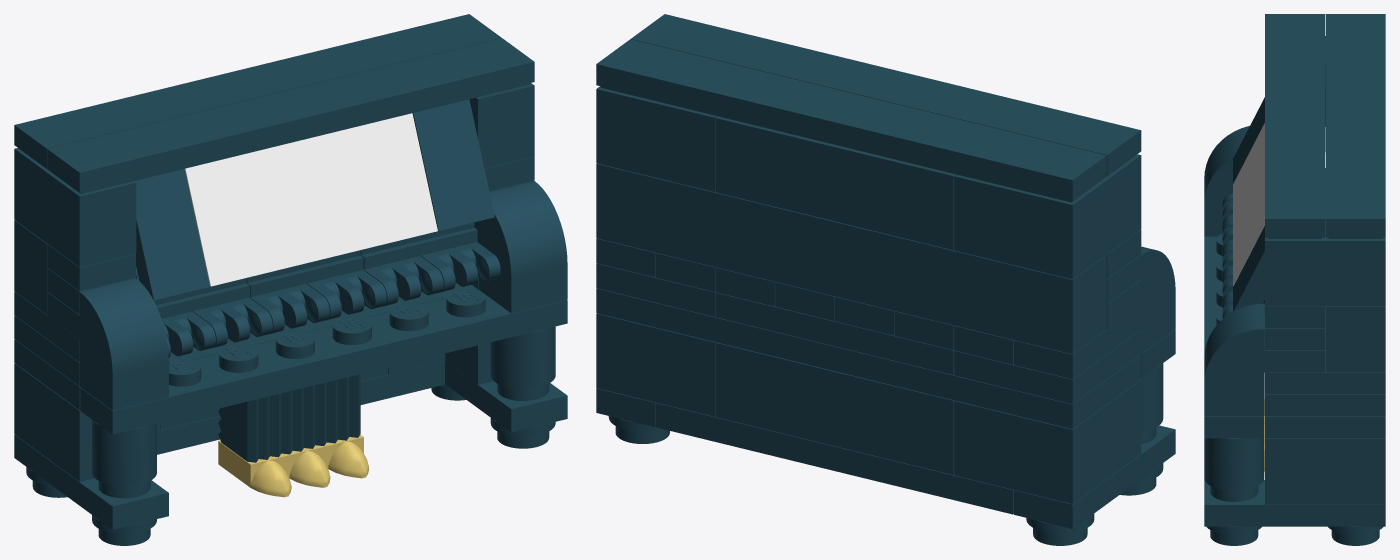
File: buffet-piano-no-keys.glb
The picture shows the model from 3 angles, left to right: view 1: azimuth 30°, elevation 25°; view 2: azimuth 150°, elevation 25°; view 3: azimuth 270°, elevation 25°; orthographic projection. The views are drawn at different scales.
Visible parts, largest first — view 1: Part-m6999143c__2020517__110155_dot_dat, Part-4162_dot_dat_instance_1, Part-3460_dot_dat, Part-4162_dot_dat_instance_0, Part-6091_dot_dat_instance_0, Part-2357_dot_dat_instance_0, Part-6091_dot_dat_instance_1, Part-2877_dot_dat, Part-3069b_dot_dat_1, Part-3069b_dot_dat_2, Part-2357_dot_dat_instance_3, Part-15208_dot_dat (+26 smaller); view 2: Part-3008_dot_dat, Part-4162_dot_dat_instance_0, Part-3010_dot_dat_instance_0, Part-3010_dot_dat_instance_1, Part-4162_dot_dat_instance_1, Part-2357_dot_dat_instance_0, Part-2357_dot_dat_instance_3, Part-3034_dot_dat, Part-2357_dot_dat_instance_1, Part-3666_dot_dat, Part-2357_dot_dat_instance_2, Part-3710_dot_dat (+19 smaller); view 3: Part-4162_dot_dat_instance_0, Part-4162_dot_dat_instance_1, Part-2357_dot_dat_instance_1, Part-2357_dot_dat_instance_2, Part-6091_dot_dat_instance_1, Part-3623_dot_dat_instance_0, Part-3008_dot_dat, Part-3062b_dot_dat_instance_0, Part-m6999143c__2020517__110155_dot_dat, Part-3460_dot_dat, Part-3023_dot_dat_instance_1, Part-3034_dot_dat (+12 smaller).
Boxes of the visible parts, bbox=[...] form: Part-m6999143c__2020517__110155_dot_dat: bbox=[185, 113, 437, 286]; Part-4162_dot_dat_instance_1: bbox=[47, 38, 534, 193]; Part-3460_dot_dat: bbox=[80, 289, 567, 434]; Part-4162_dot_dat_instance_0: bbox=[14, 14, 501, 169]; Part-6091_dot_dat_instance_0: bbox=[47, 278, 168, 410]; Part-2357_dot_dat_instance_0: bbox=[14, 148, 136, 267]; Part-6091_dot_dat_instance_1: bbox=[474, 181, 567, 313]; Part-2877_dot_dat: bbox=[218, 374, 360, 462]; Part-3069b_dot_dat_1: bbox=[134, 169, 209, 300]; Part-3069b_dot_dat_2: bbox=[412, 99, 494, 230]; Part-2357_dot_dat_instance_3: bbox=[14, 363, 160, 481]; Part-15208_dot_dat: bbox=[218, 434, 368, 497]; Part-3008_dot_dat: bbox=[596, 163, 1106, 354]; Part-4162_dot_dat_instance_0: bbox=[596, 39, 1106, 202]; Part-3010_dot_dat_instance_0: bbox=[715, 116, 956, 250]; Part-3010_dot_dat_instance_1: bbox=[715, 342, 954, 474]; Part-4162_dot_dat_instance_1: bbox=[631, 14, 1141, 176]; Part-2357_dot_dat_instance_0: bbox=[954, 154, 1141, 279]; Part-2357_dot_dat_instance_3: bbox=[954, 379, 1141, 503]; Part-3034_dot_dat: bbox=[596, 288, 1141, 429]; Part-2357_dot_dat_instance_1: bbox=[596, 86, 717, 191]; Part-3666_dot_dat: bbox=[656, 402, 1013, 514]; Part-2357_dot_dat_instance_2: bbox=[596, 313, 715, 416]; Part-3710_dot_dat: bbox=[715, 292, 954, 374]; Part-4162_dot_dat_instance_0: bbox=[1325, 14, 1385, 238]; Part-4162_dot_dat_instance_1: bbox=[1265, 14, 1324, 238]; Part-2357_dot_dat_instance_1: bbox=[1265, 190, 1385, 306]; Part-2357_dot_dat_instance_2: bbox=[1265, 438, 1385, 504]; Part-6091_dot_dat_instance_1: bbox=[1204, 303, 1324, 416]; Part-3623_dot_dat_instance_0: bbox=[1204, 479, 1385, 526]; Part-3008_dot_dat: bbox=[1325, 306, 1385, 372]; Part-3062b_dot_dat_instance_0: bbox=[1204, 438, 1264, 501]; Part-m6999143c__2020517__110155_dot_dat: bbox=[1233, 123, 1264, 286]; Part-3460_dot_dat: bbox=[1204, 234, 1264, 438]; Part-3023_dot_dat_instance_1: bbox=[1265, 347, 1385, 394]; Part-3034_dot_dat: bbox=[1265, 416, 1385, 438].
Size of the model in its own units: 6.39 by 4.79 by 2.39.
